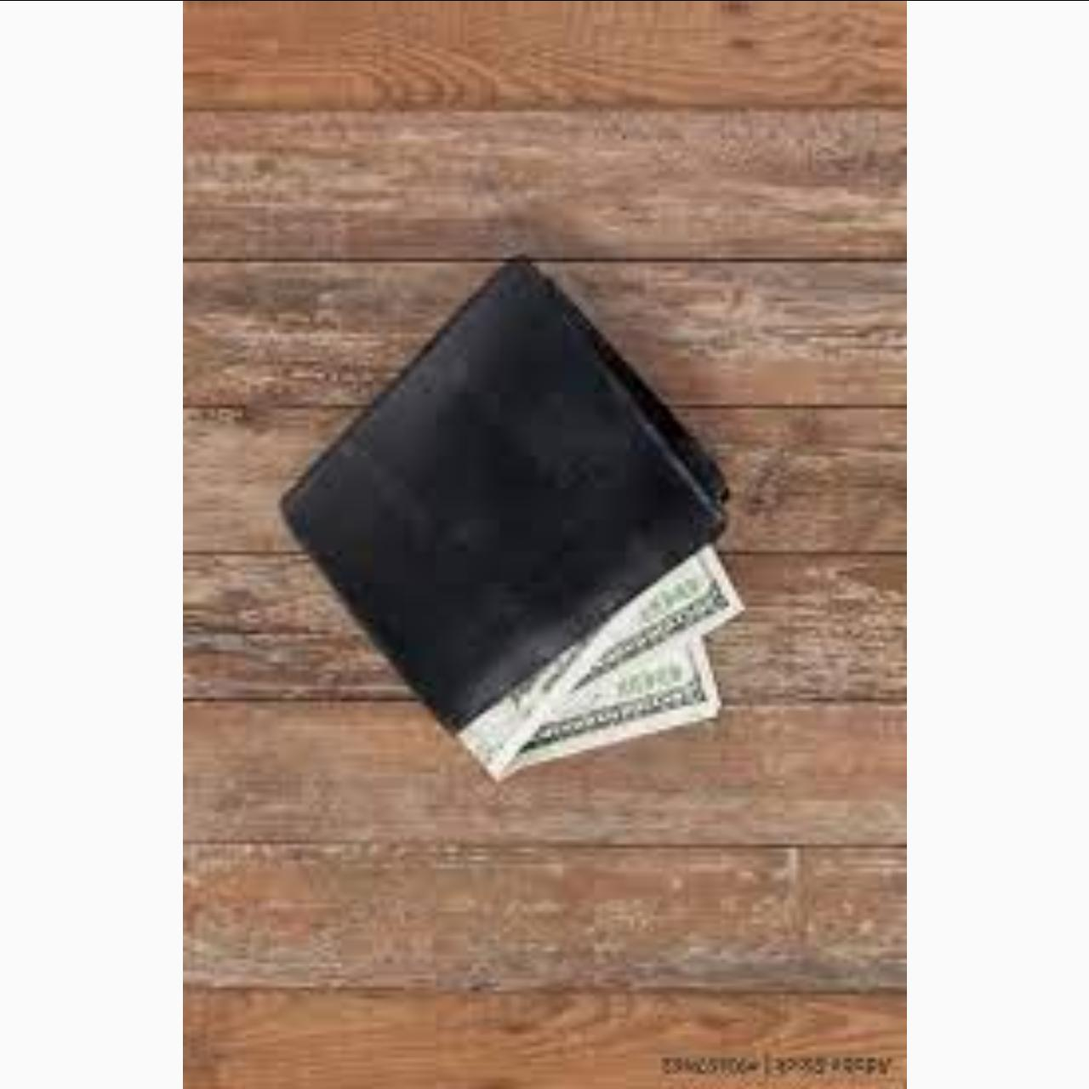wallet: (216, 145, 762, 778)
